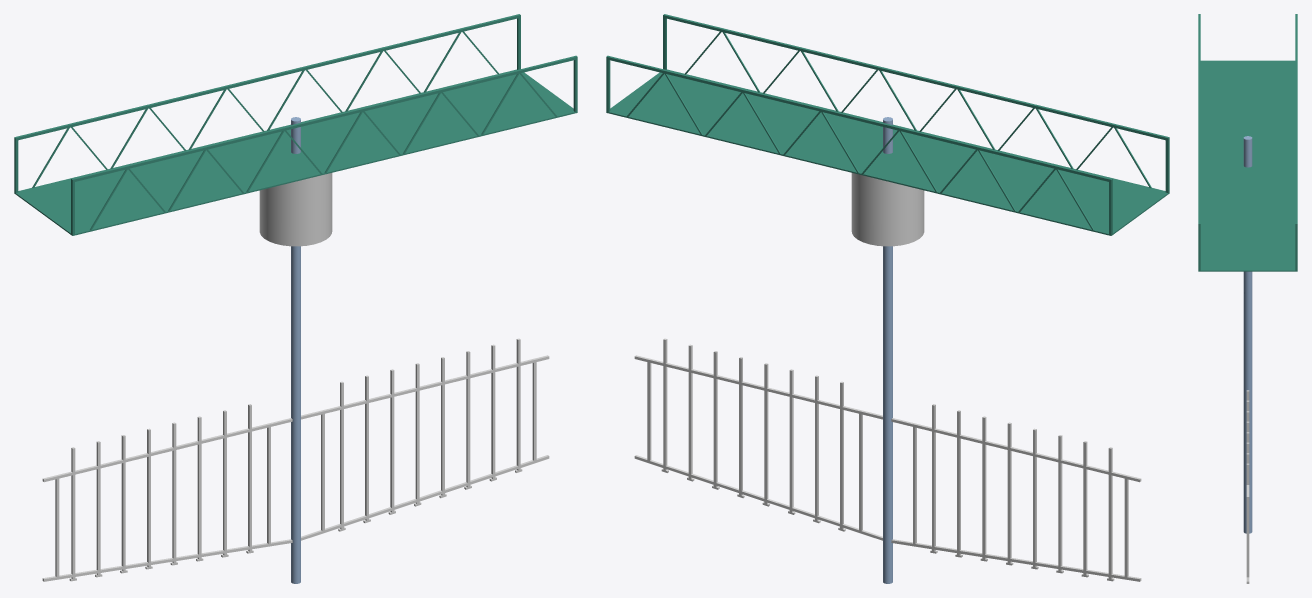
The model's file is central-drive-thickener.gltf.
3 renders of one model, left to right at view 1: azimuth 30°, elevation 25°; view 2: azimuth 150°, elevation 25°; view 3: azimuth 270°, elevation 25°, orthographic. The views are drawn at different scales.
Parts seen in each view (by area): view 1: 拉伸 [227246], 拉伸 [227590], 拉伸 [227529], 拉伸 [227586], 拉伸 [227257], 拉伸 [227294], 拉伸 [227703], 拉伸 [227791], 拉伸 [227692], 拉伸 [227780]; view 2: 拉伸 [227246], 拉伸 [227590], 拉伸 [227529], 拉伸 [227586], 拉伸 [227294], 拉伸 [227257], 拉伸 [227791], 拉伸 [227703], 拉伸 [227692], 拉伸 [227780]; view 3: 拉伸 [227246], 拉伸 [227586], 拉伸 [227257], 拉伸 [227294], 拉伸 [227590].
Part boxes in pixels (x1=…): 拉伸 [227246]: x1=14, y1=69, x2=577, y2=235; 拉伸 [227590]: x1=42, y1=355, x2=549, y2=581; 拉伸 [227529]: x1=259, y1=173, x2=332, y2=246; 拉伸 [227586]: x1=291, y1=117, x2=300, y2=583; 拉伸 [227257]: x1=71, y1=55, x2=577, y2=234; 拉伸 [227294]: x1=14, y1=14, x2=520, y2=192; 拉伸 [227703]: x1=196, y1=416, x2=203, y2=561; 拉伸 [227791]: x1=388, y1=369, x2=395, y2=514; 拉伸 [227692]: x1=170, y1=422, x2=177, y2=565; 拉伸 [227780]: x1=414, y1=363, x2=421, y2=506; 拉伸 [227246]: x1=606, y1=69, x2=1169, y2=235; 拉伸 [227590]: x1=634, y1=355, x2=1141, y2=581; 拉伸 [227529]: x1=851, y1=173, x2=924, y2=246; 拉伸 [227586]: x1=883, y1=117, x2=892, y2=583; 拉伸 [227294]: x1=606, y1=55, x2=1112, y2=234; 拉伸 [227257]: x1=663, y1=14, x2=1169, y2=192; 拉伸 [227791]: x1=788, y1=369, x2=795, y2=514; 拉伸 [227703]: x1=980, y1=416, x2=987, y2=561; 拉伸 [227692]: x1=1006, y1=422, x2=1013, y2=565; 拉伸 [227780]: x1=762, y1=363, x2=769, y2=506; 拉伸 [227246]: x1=1198, y1=60, x2=1297, y2=271; 拉伸 [227586]: x1=1243, y1=136, x2=1252, y2=533; 拉伸 [227257]: x1=1198, y1=14, x2=1200, y2=270; 拉伸 [227294]: x1=1295, y1=14, x2=1297, y2=270; 拉伸 [227590]: x1=1246, y1=485, x2=1249, y2=583.
Bounding box in the file's own units: 4 × 3.67 × 0.8.
